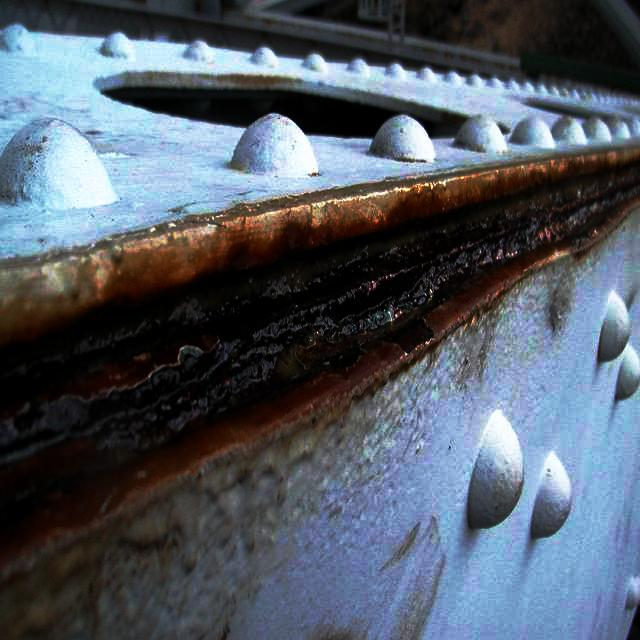Corrosion: (0, 140, 640, 599)
